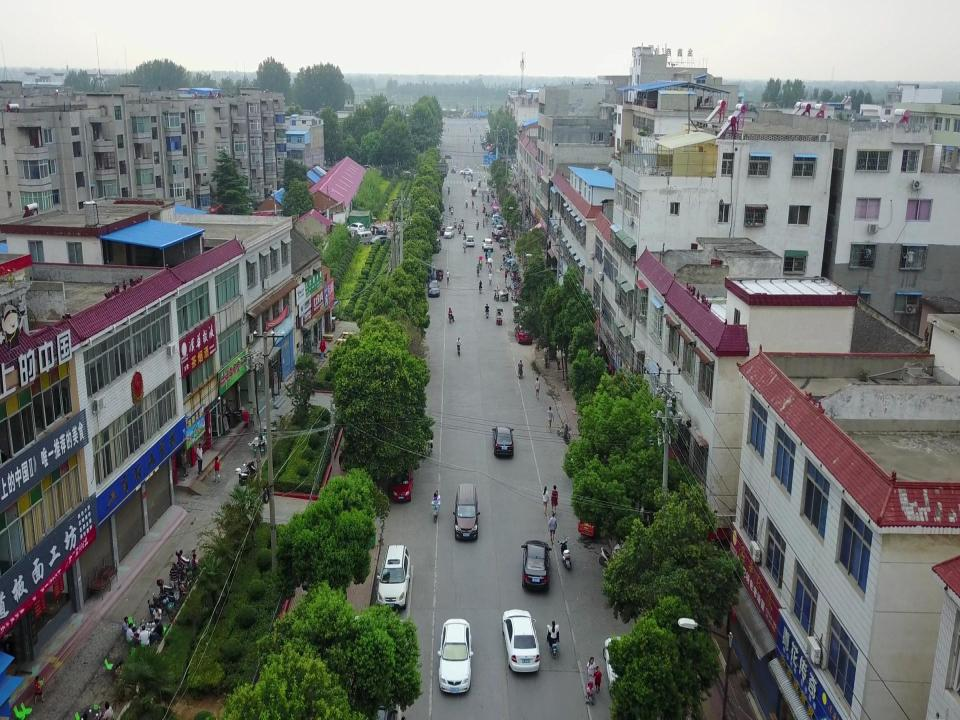car: (500, 608, 541, 676), (438, 618, 474, 693), (377, 544, 409, 611), (603, 638, 636, 695), (519, 539, 553, 593), (389, 459, 413, 503), (491, 425, 514, 459), (514, 324, 532, 344), (370, 235, 390, 247), (347, 223, 365, 235), (428, 278, 440, 296), (368, 224, 388, 234), (481, 238, 493, 252), (432, 238, 442, 252), (444, 226, 454, 238), (466, 235, 475, 247), (494, 224, 503, 234), (460, 168, 474, 174)
van: (452, 482, 480, 541), (356, 231, 372, 244)
